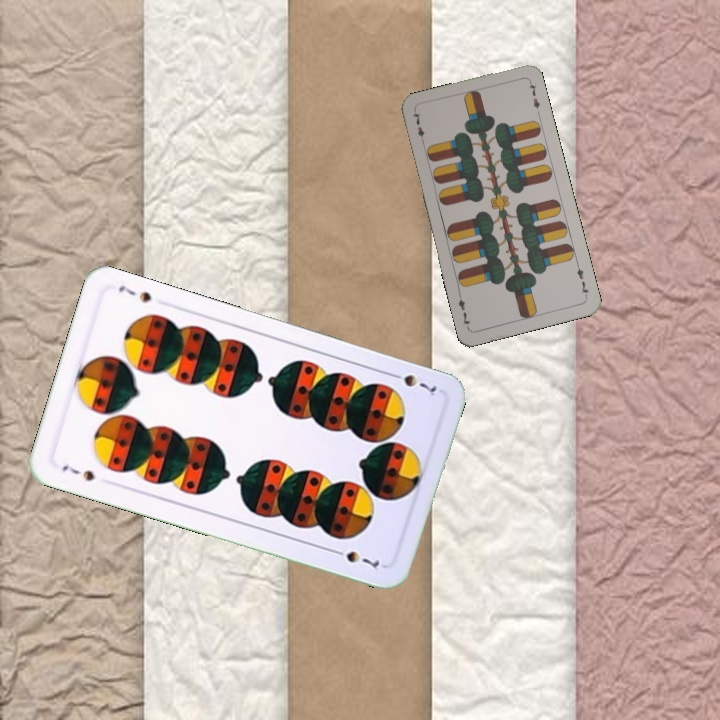E7: (409, 107, 427, 148), (573, 260, 591, 300)
S7: (385, 368, 439, 399), (58, 461, 97, 484)
